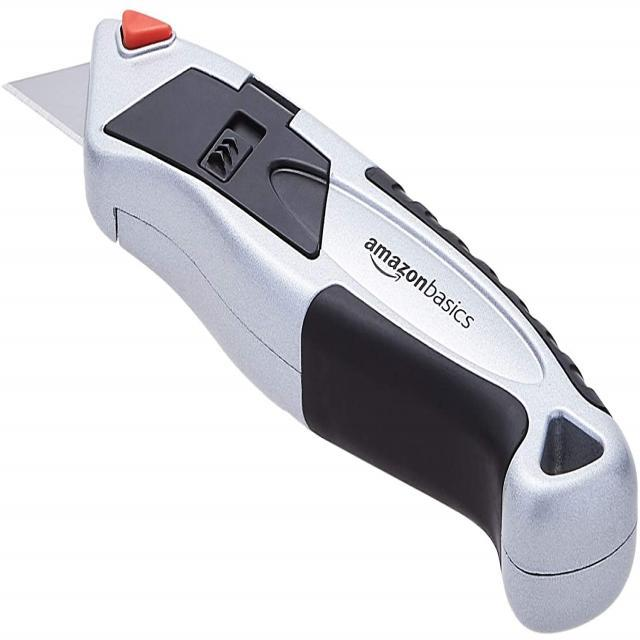estilete: (11, 10, 636, 632)
